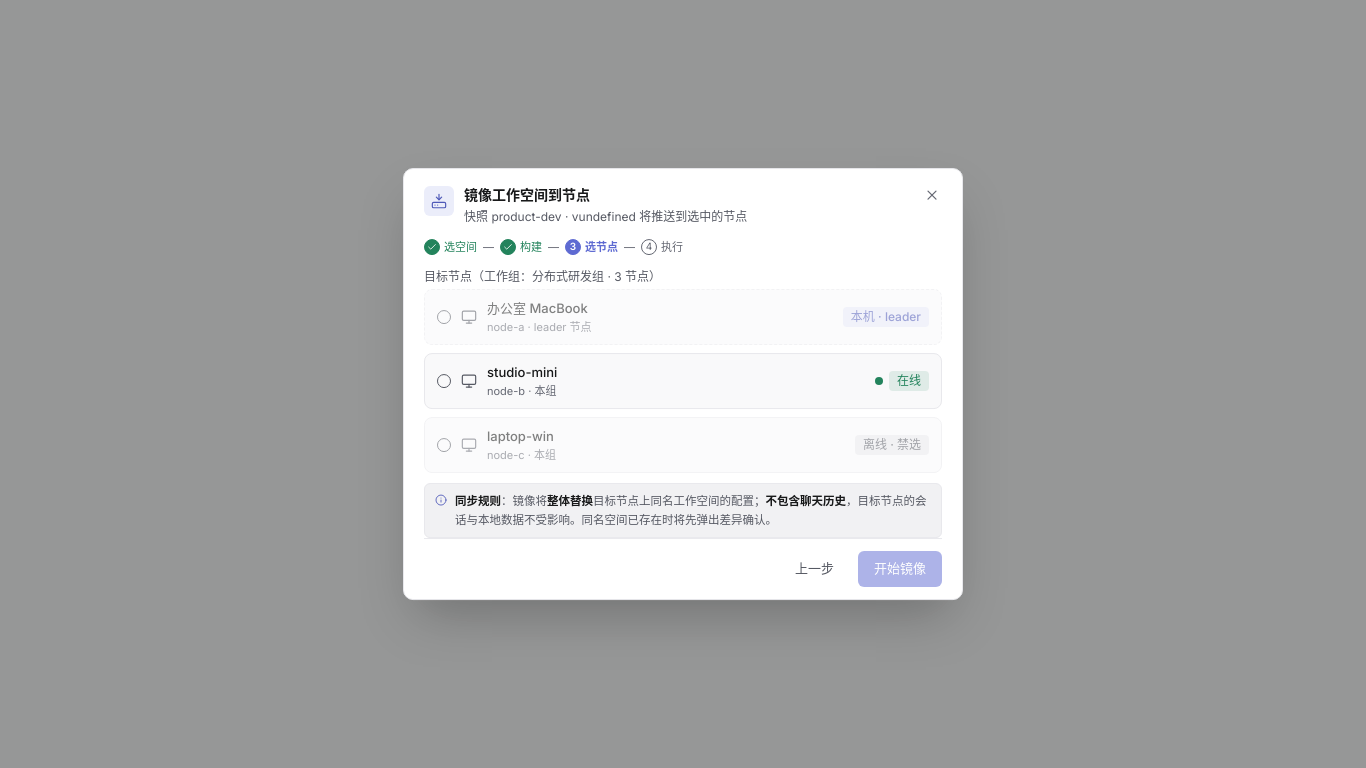
Test: MirrorWizard S1/S2/S3 › S3 禁选规则：离线与本机禁选；未选时开始镜像禁用
The width and height of the screenshot is (1366, 768).
Check: the radio button labelled "办公室 MacBook node-a · leader 节点 本机 · leader" is disabled, box [424,289,942,345]
Check: the radio button labelled "laptop-win node-c · 本组 离线 · 禁选" is disabled, box [424,417,942,473]
Click the radio button labelled "studio-mini node-b · 本组 在线": (522, 372) [424,353,942,409]
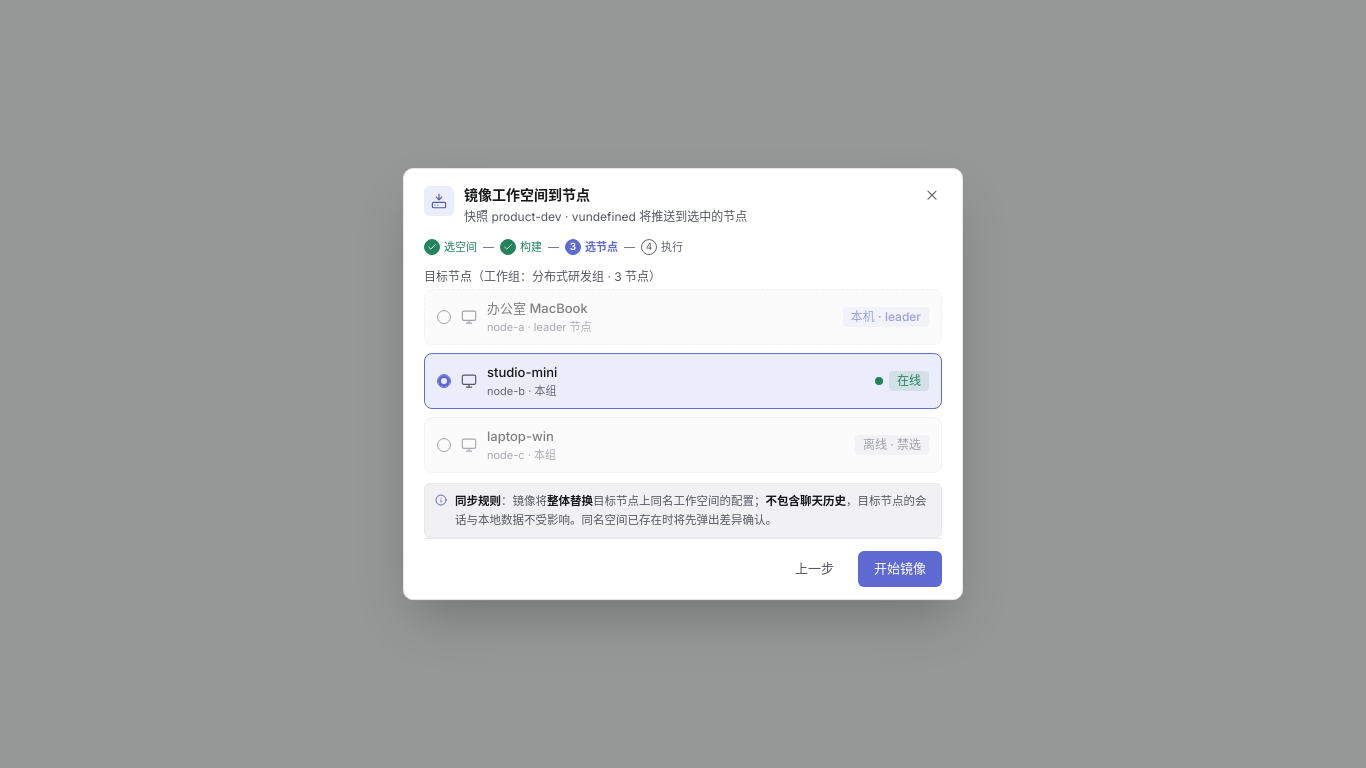
Check: the button "开始镜像" is enabled, box [858,551,942,587]
